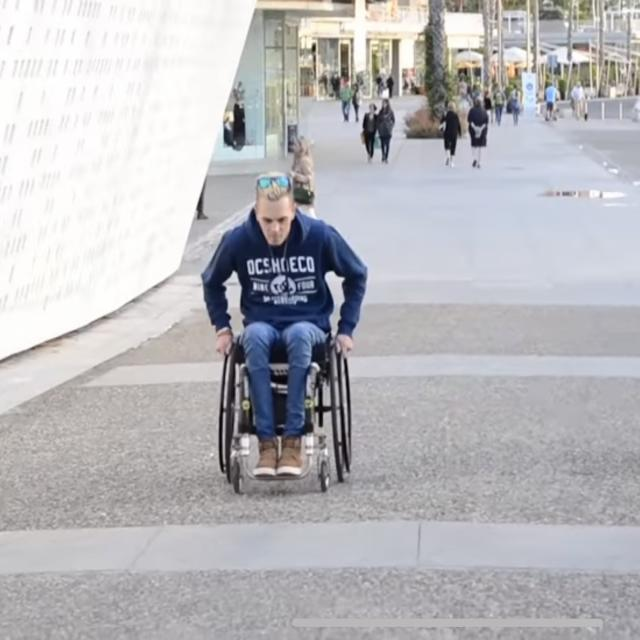wheelchairs: (218, 275, 354, 495)
